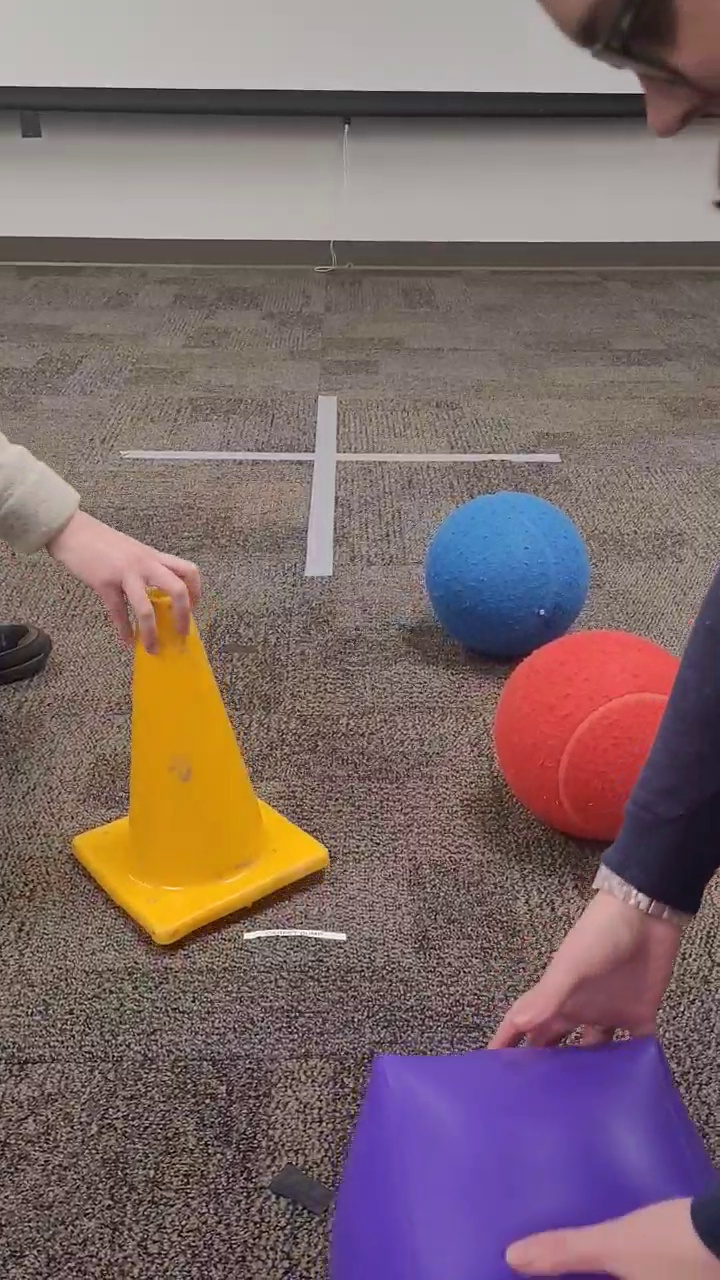ball: (495, 626, 685, 843), (423, 491, 592, 661)
cone: (63, 591, 334, 950)
cube: (325, 1042, 718, 1280)
face: (530, 3, 718, 224)
foot: (1, 616, 55, 691)
hand: (493, 564, 720, 1050), (1, 427, 203, 659), (504, 1195, 720, 1277)
